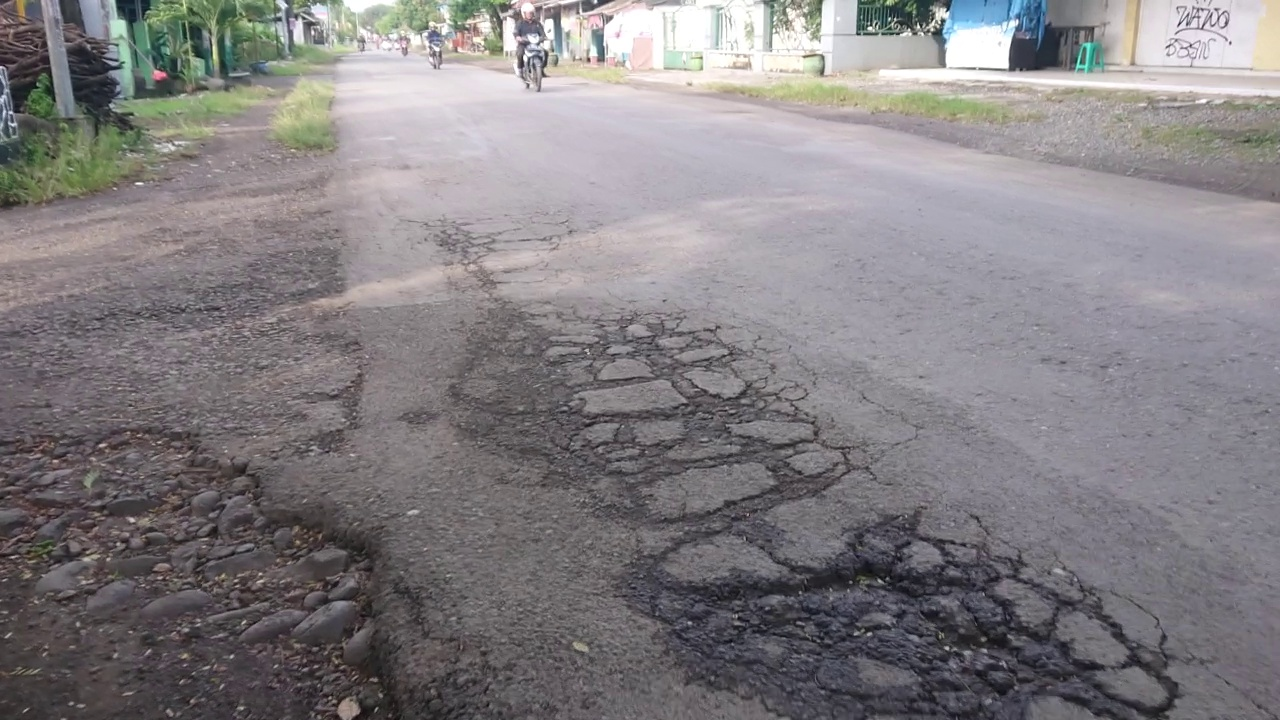Retak: (493, 315, 1149, 720)
